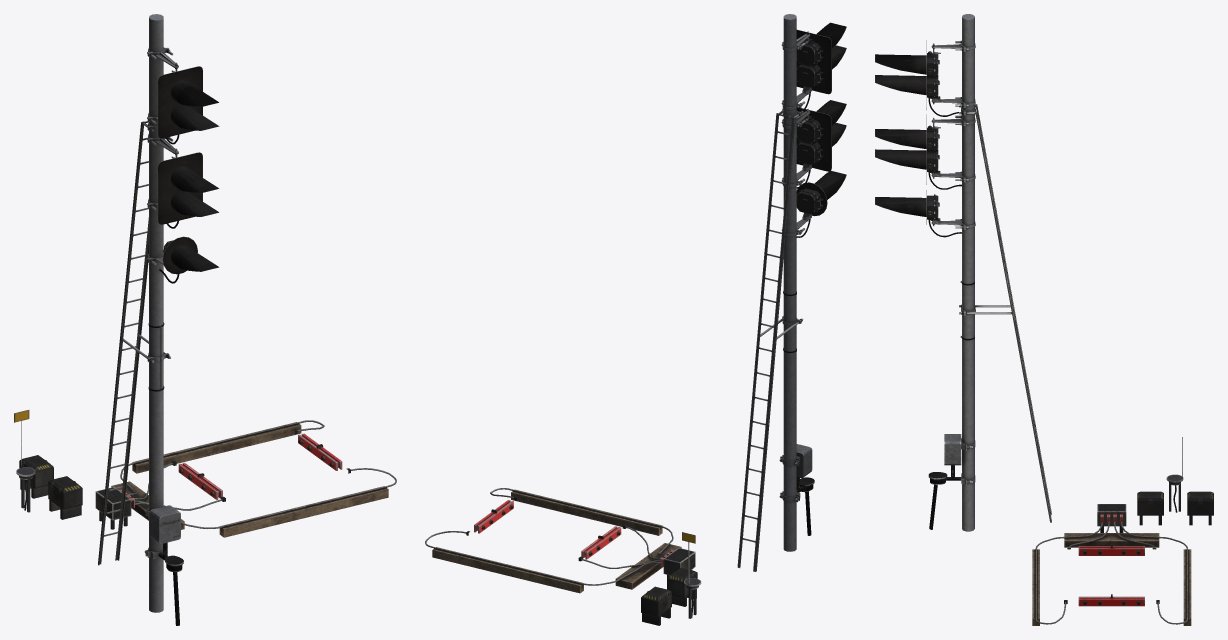
The model's file is RM_sig_MM1_2+2+1_DL_entr.gltf.
The picture shows the model from 3 angles, left to right: view 1: azimuth 30°, elevation 25°; view 2: azimuth 150°, elevation 25°; view 3: azimuth 270°, elevation 25°; orthographic projection. The views are drawn at different scales.
Parts seen in each view (by area): view 1: Светофор ВХОДНОЙ, Изостык; view 2: Светофор ВХОДНОЙ, Изостык; view 3: Светофор ВХОДНОЙ, Изостык.
Boxes of the visible parts, x1,y1,x2,y2 form: Светофор ВХОДНОЙ: (98,14,219,625); Изостык: (14,410,396,537); Светофор ВХОДНОЙ: (737,14,846,571); Изостык: (425,488,701,625); Светофор ВХОДНОЙ: (875,14,1051,531); Изостык: (1032,437,1213,625).
Bounding box in the file's own units: 4.1 × 7.57 × 4.54.
3 materials, 2 textured.
